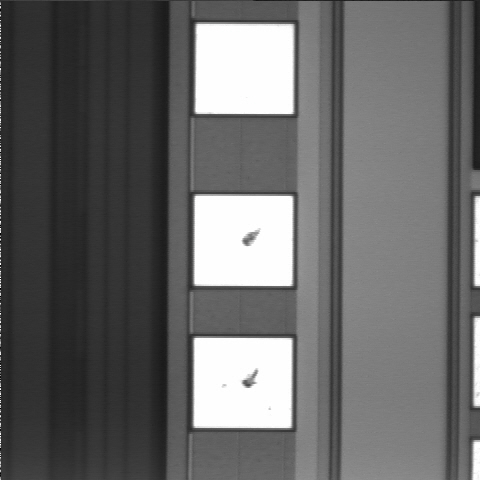pad: (195, 24, 294, 114), (194, 196, 293, 286), (194, 338, 292, 428)
